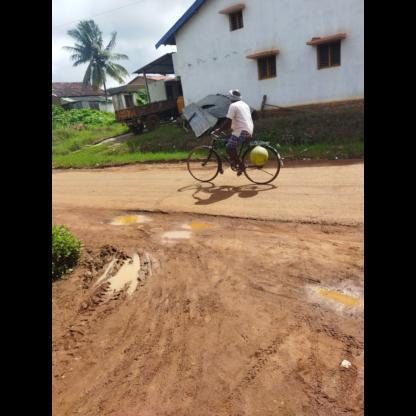Bicycle: (165, 125, 303, 199)
